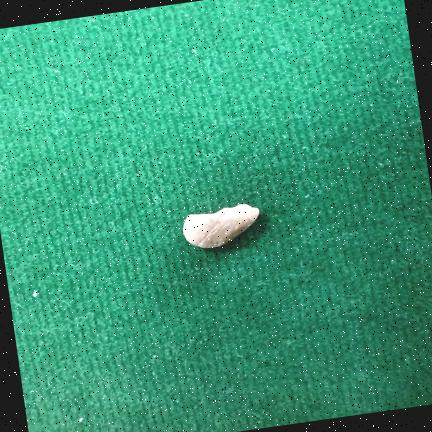shell: (183, 203, 259, 247)
